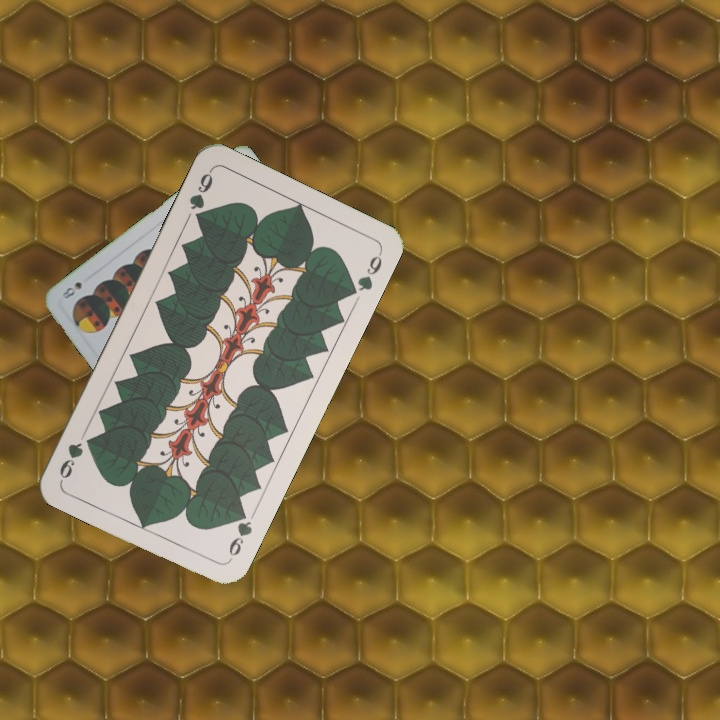G9: (224, 505, 258, 564), (185, 166, 216, 225)
